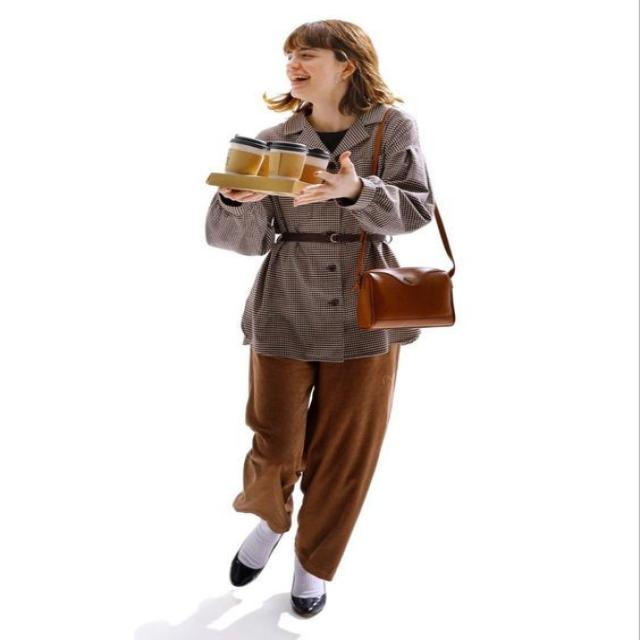person: (204, 18, 435, 616)
